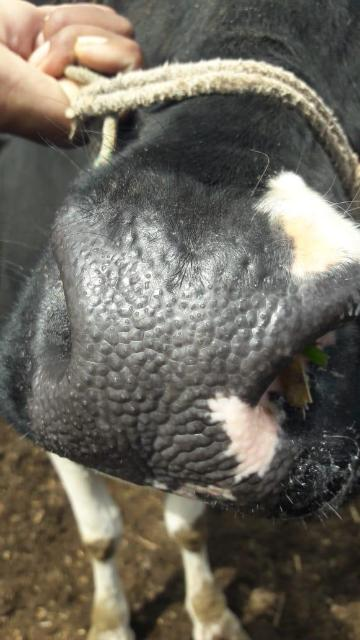Muzzle: (50, 212, 284, 492)
